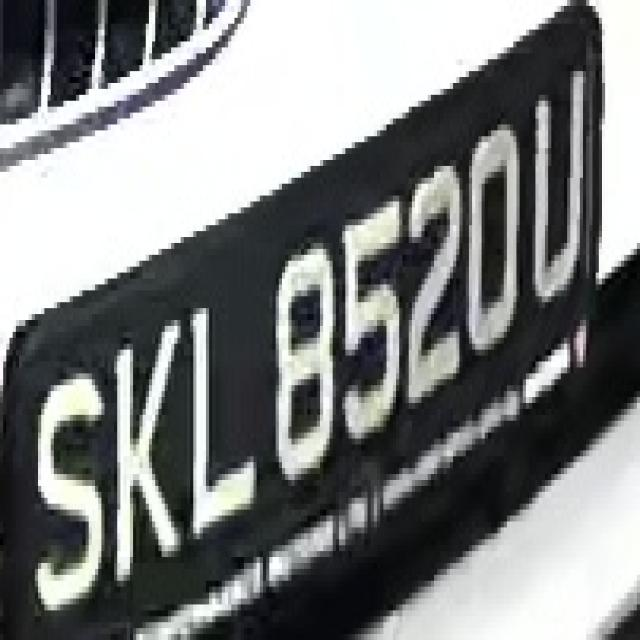0: (462, 112, 520, 344)
2: (402, 148, 469, 409)
5: (336, 196, 402, 444)
8: (270, 243, 346, 486)
K: (101, 308, 180, 605)
L: (178, 279, 266, 545)
S: (16, 350, 114, 604)
U: (529, 53, 589, 326)
